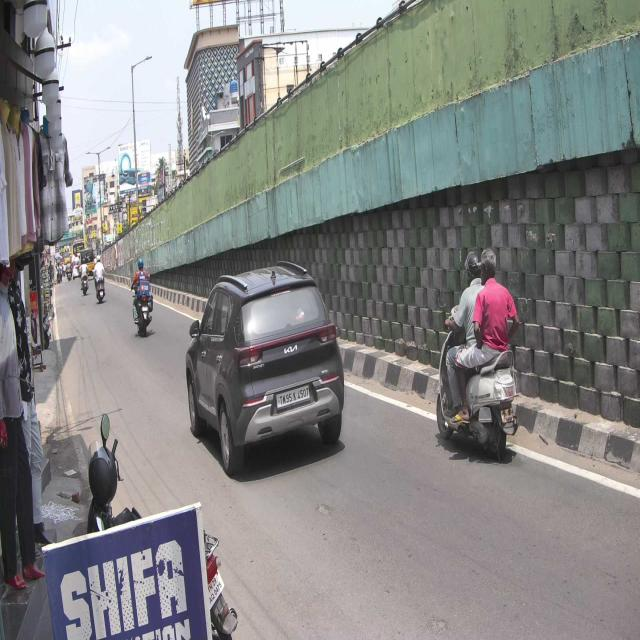double_rider: (436, 248, 520, 458)
